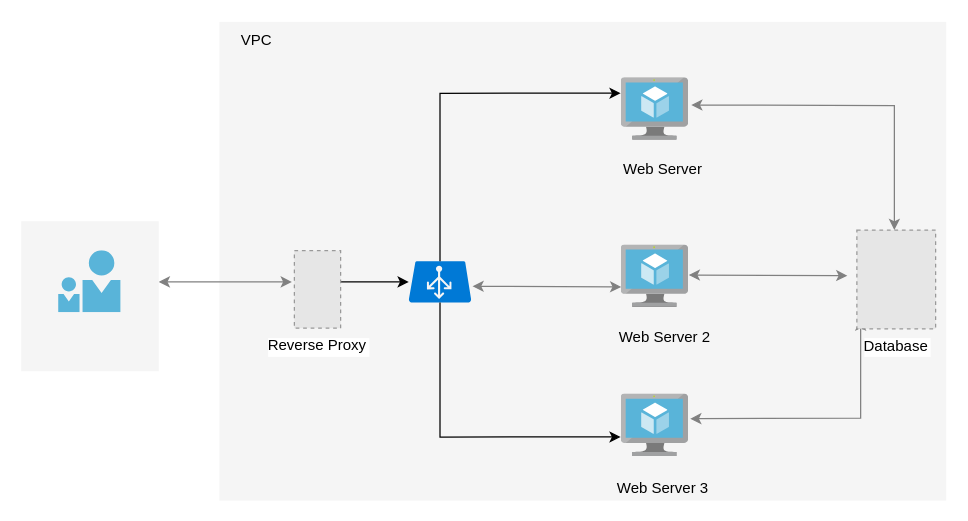
Some shapes in this 968 by 521 pixel diagram are drawn without their labels. Grey dashed boxes stand in for pictures. Here are the shapes that lost their labels. From the top down, the box of each, then its label:
(58, 250, 121, 312): Usuários
(408, 261, 471, 302): Load Balancer
